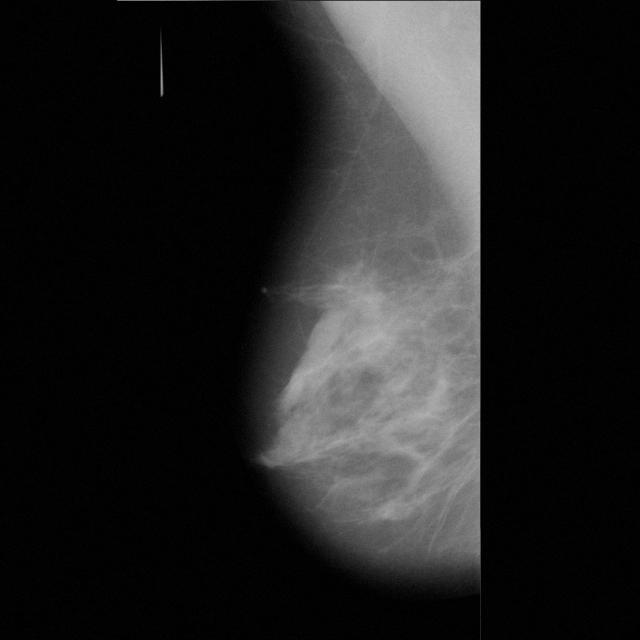ARCH: (297, 266, 357, 326)
